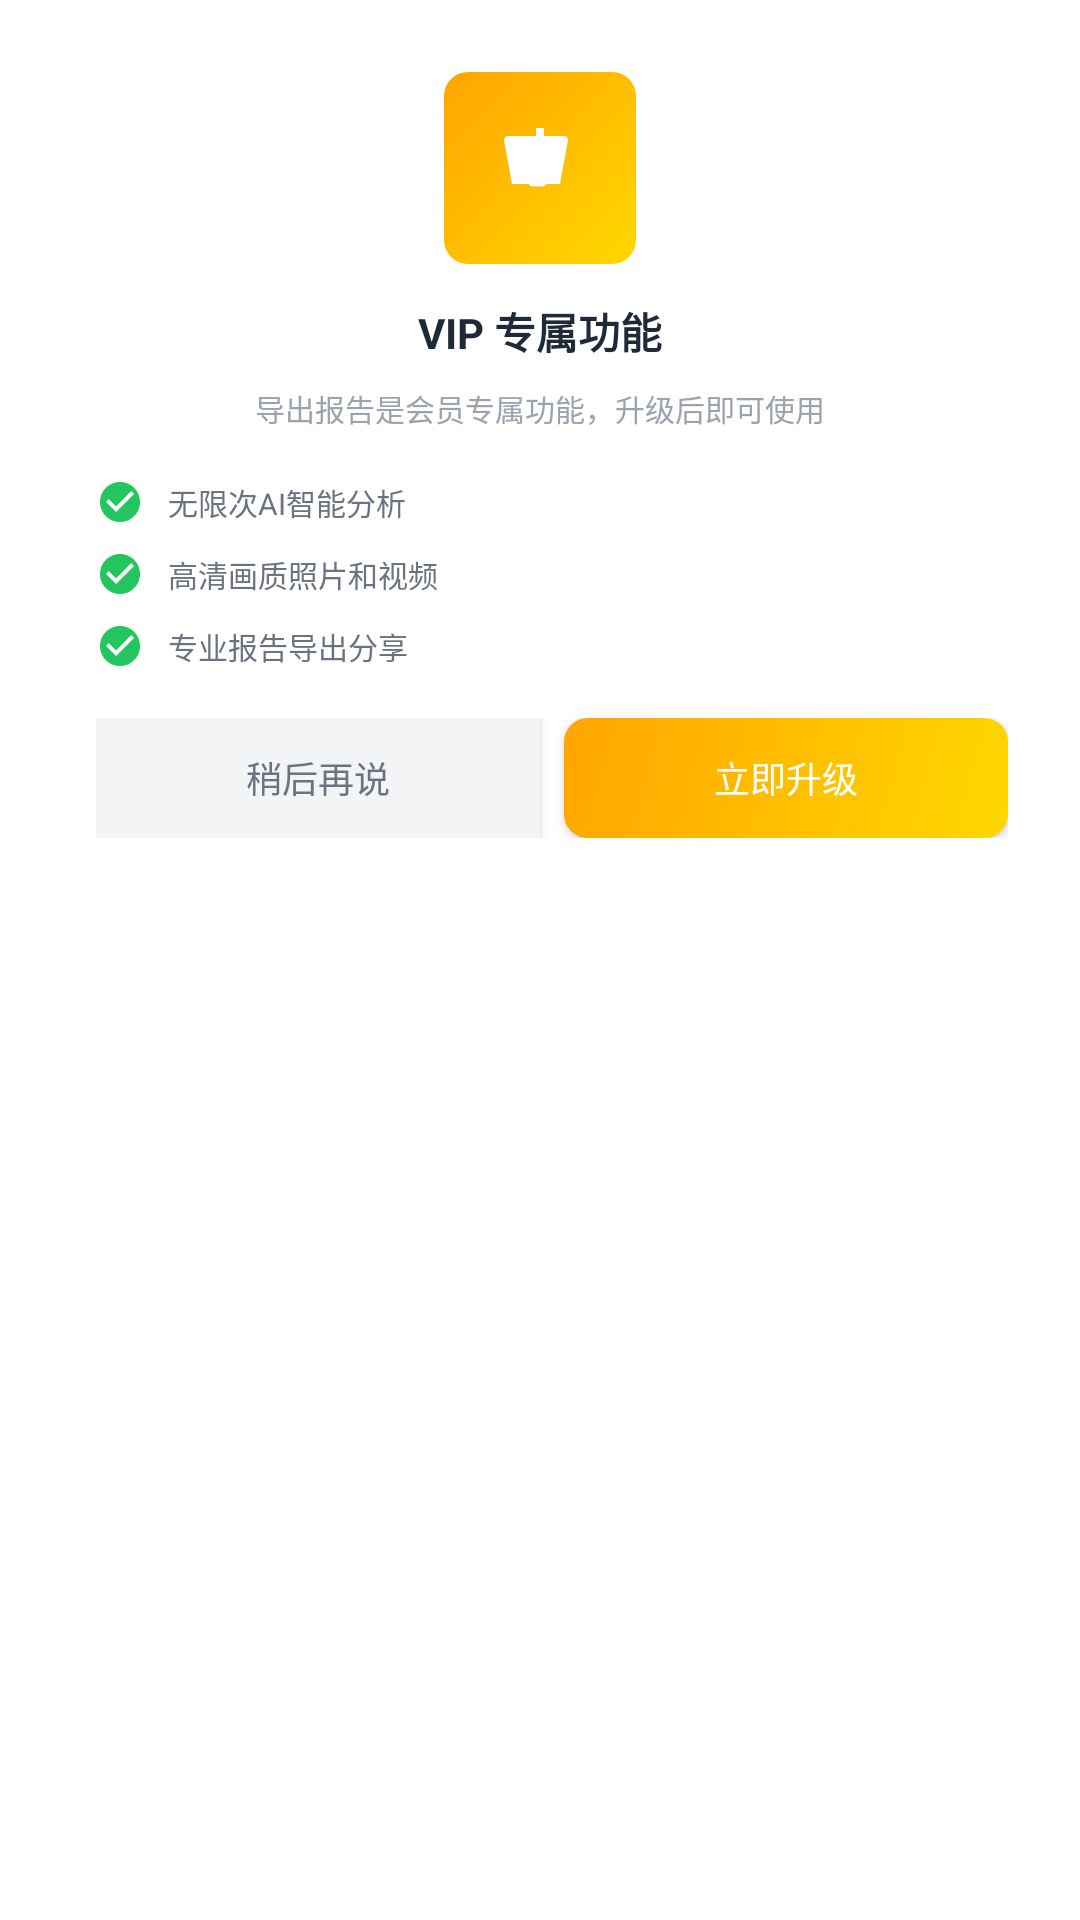

Where to tap for icons on this 1080x1920 app screen, as point (x, y):
check circle: point (120, 502), point (120, 574), point (120, 646)
